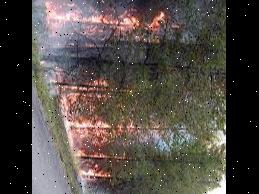fire: (66, 84, 145, 186), (34, 0, 180, 50)
